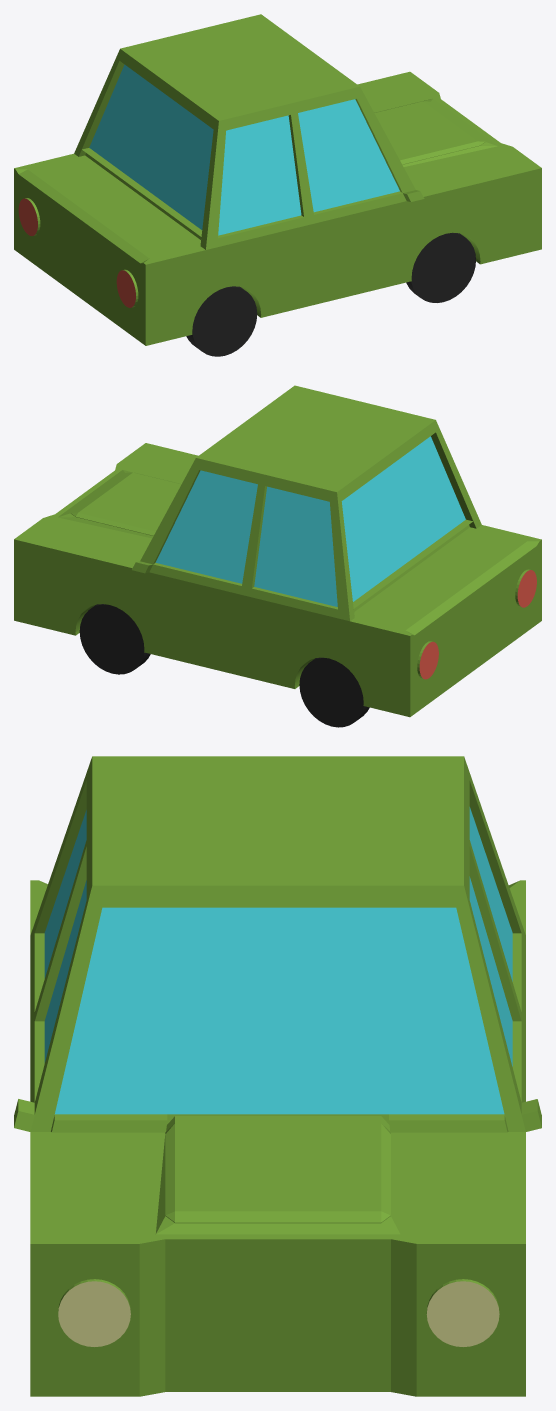
Rendered from GreenCar.glb.
3 renders of one model, top to bottom at view 1: azimuth 30°, elevation 25°; view 2: azimuth 150°, elevation 25°; view 3: azimuth 270°, elevation 25°, orthographic. The views are drawn at different scales.
Visible parts, largest first — view 1: GreenCar; view 2: GreenCar; view 3: GreenCar.
Boxes of the visible parts, box(x1,y1,x2,y2) form: GreenCar: box(14, 14, 541, 356); GreenCar: box(14, 385, 541, 727); GreenCar: box(14, 756, 541, 1396).
Size of the model in its own units: 7.34 by 3.89 by 4.45.
